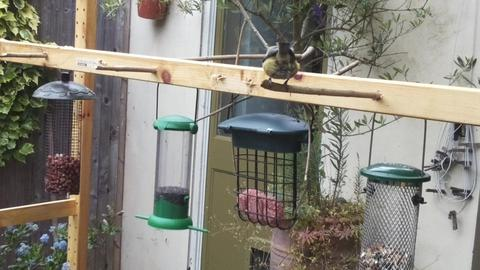blue tit: (262, 42, 300, 92)
